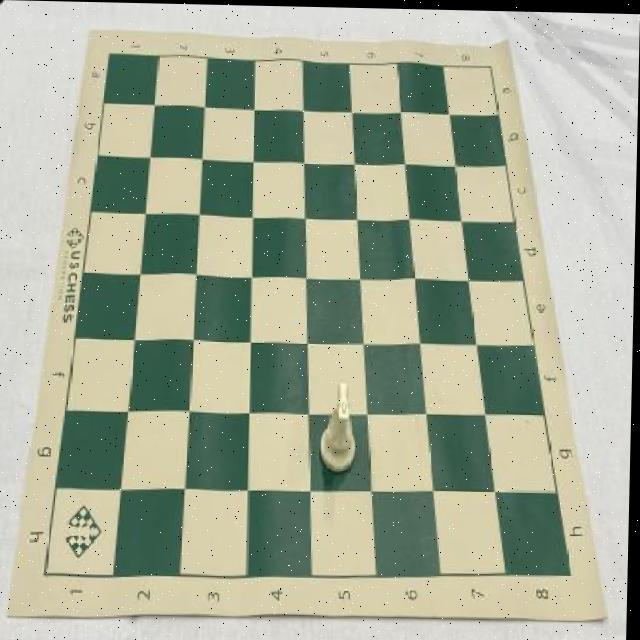white-king: (321, 379, 360, 473)
